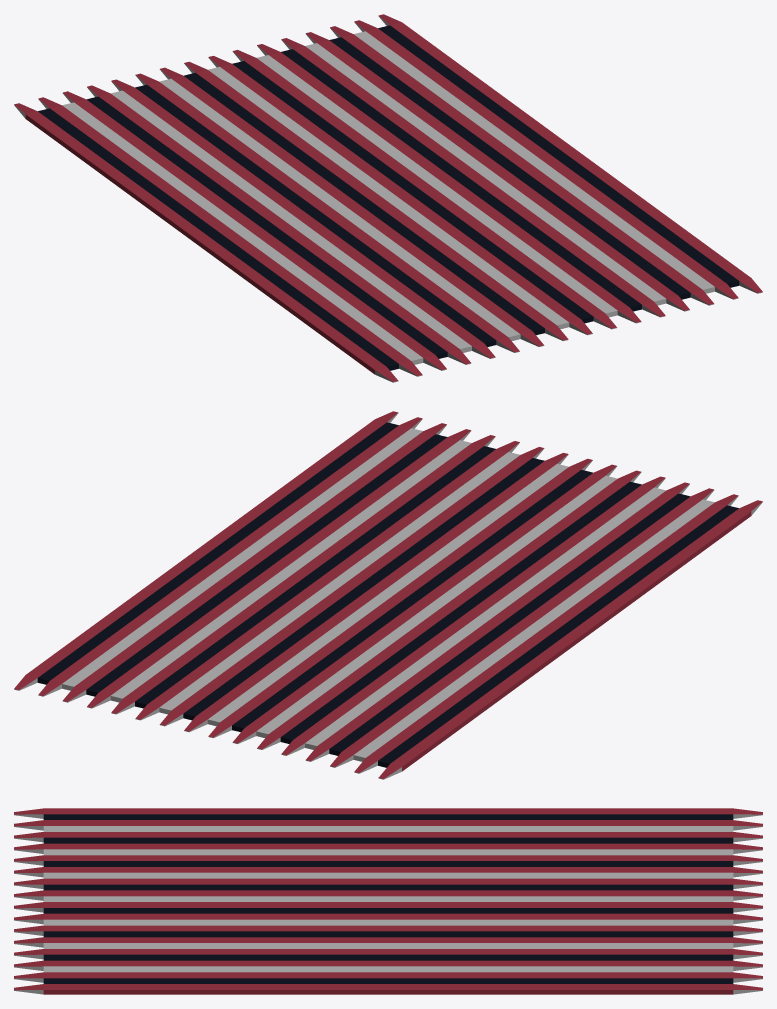
The model's file is Alfombra.fbx.
3 renders of one model, top to bottom at view 1: azimuth 30°, elevation 25°; view 2: azimuth 150°, elevation 25°; view 3: azimuth 270°, elevation 25°, orthographic.
Visible parts, largest first — view 1: Alfombra; view 2: Alfombra; view 3: Alfombra.
Part boxes in pixels (box(x1,y1,x2,y2)): Alfombra: box(14, 14, 762, 382); Alfombra: box(14, 411, 762, 779); Alfombra: box(14, 808, 762, 994).
Size of the model in its own units: 145 by 1.74 by 253.
